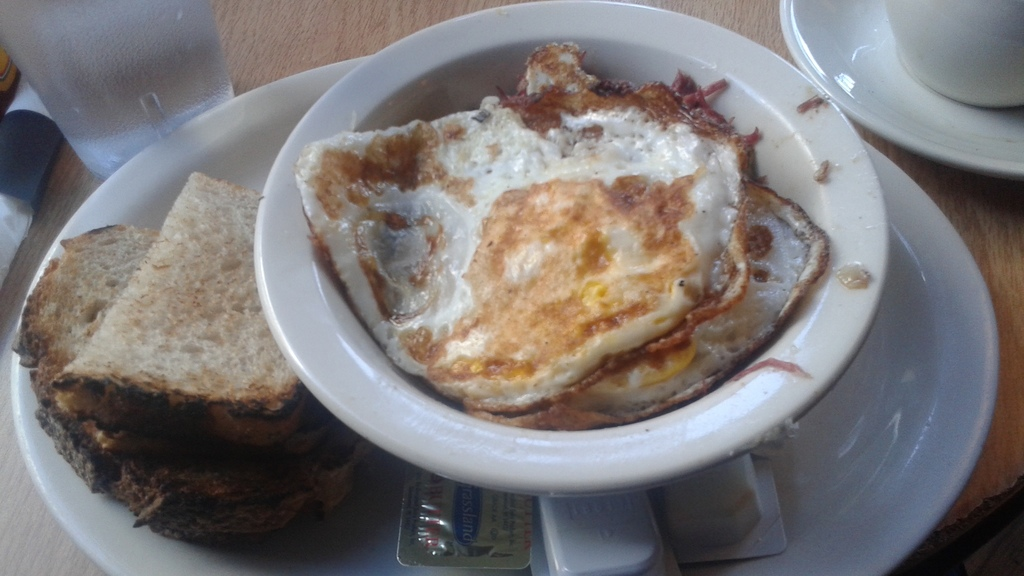plate: (11, 59, 996, 575)
